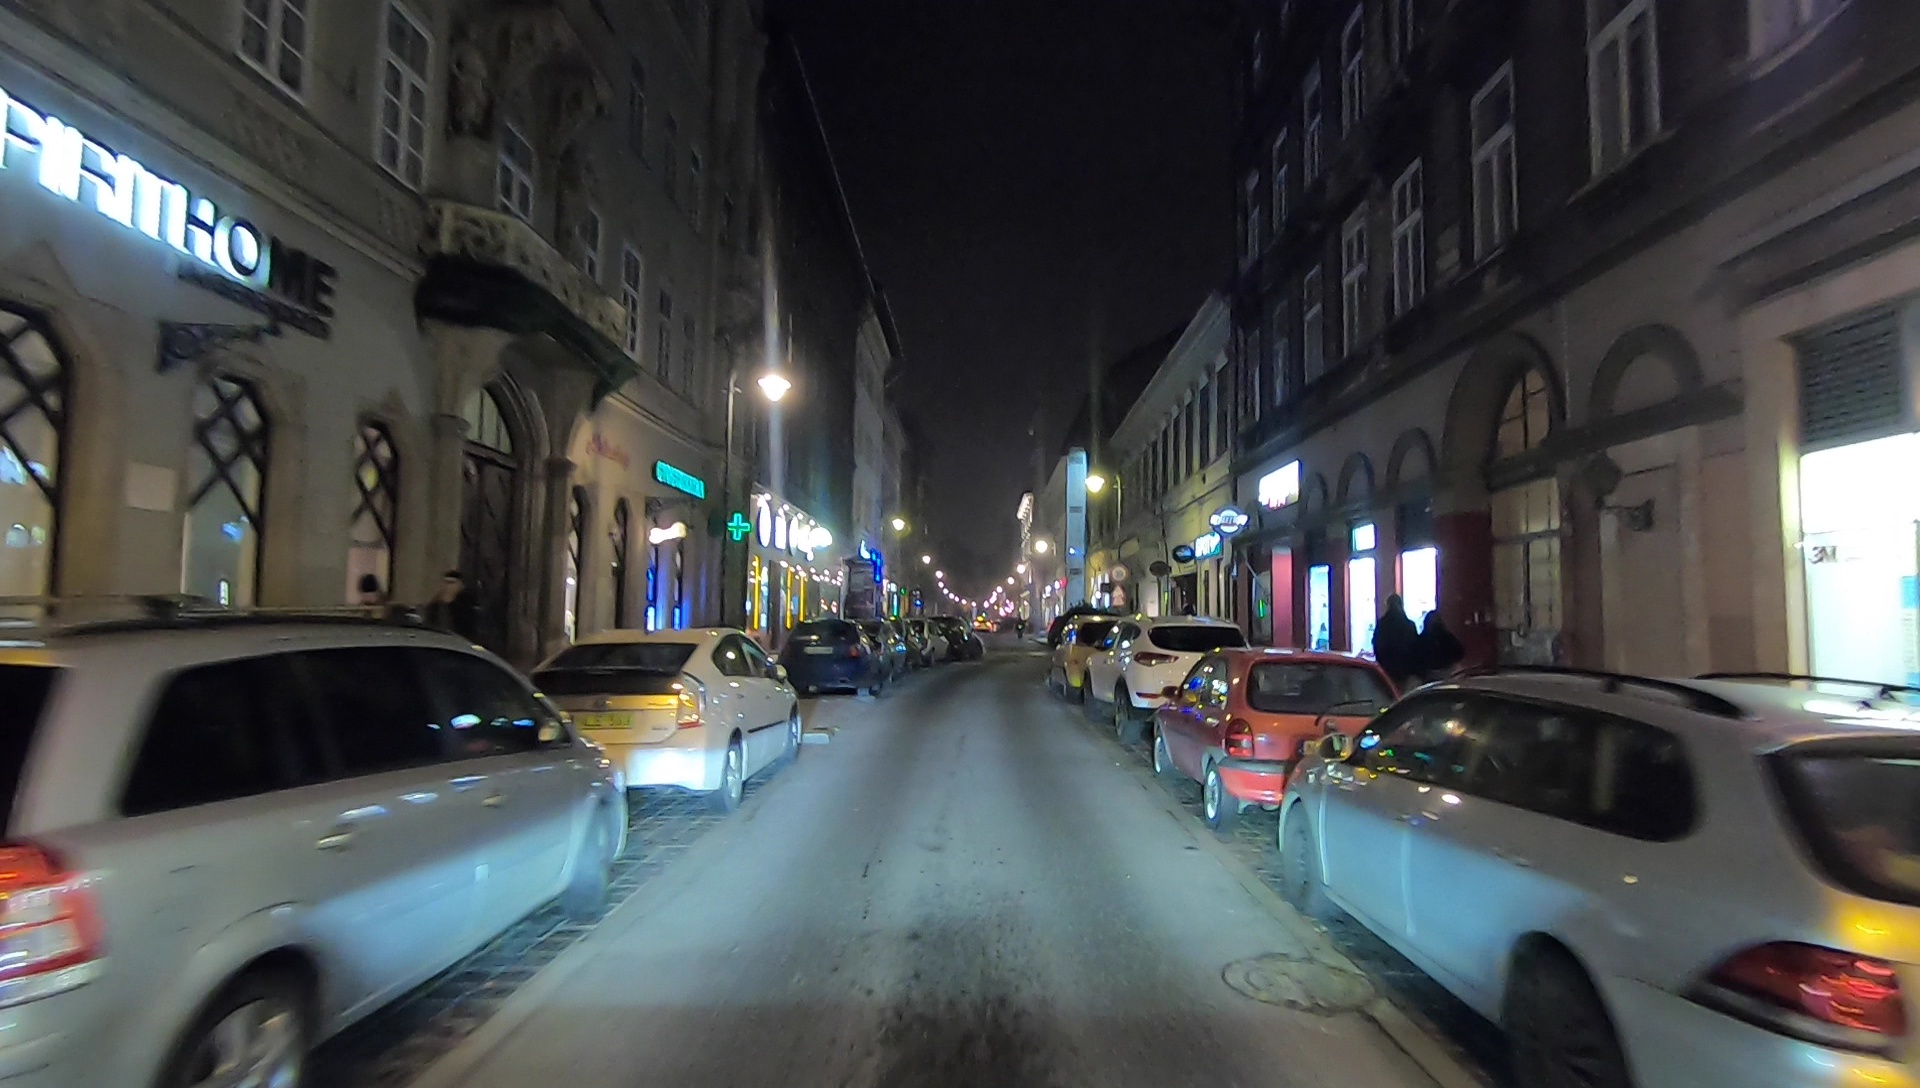person: (428, 574, 475, 687), (1376, 593, 1414, 704), (1415, 610, 1454, 717)
